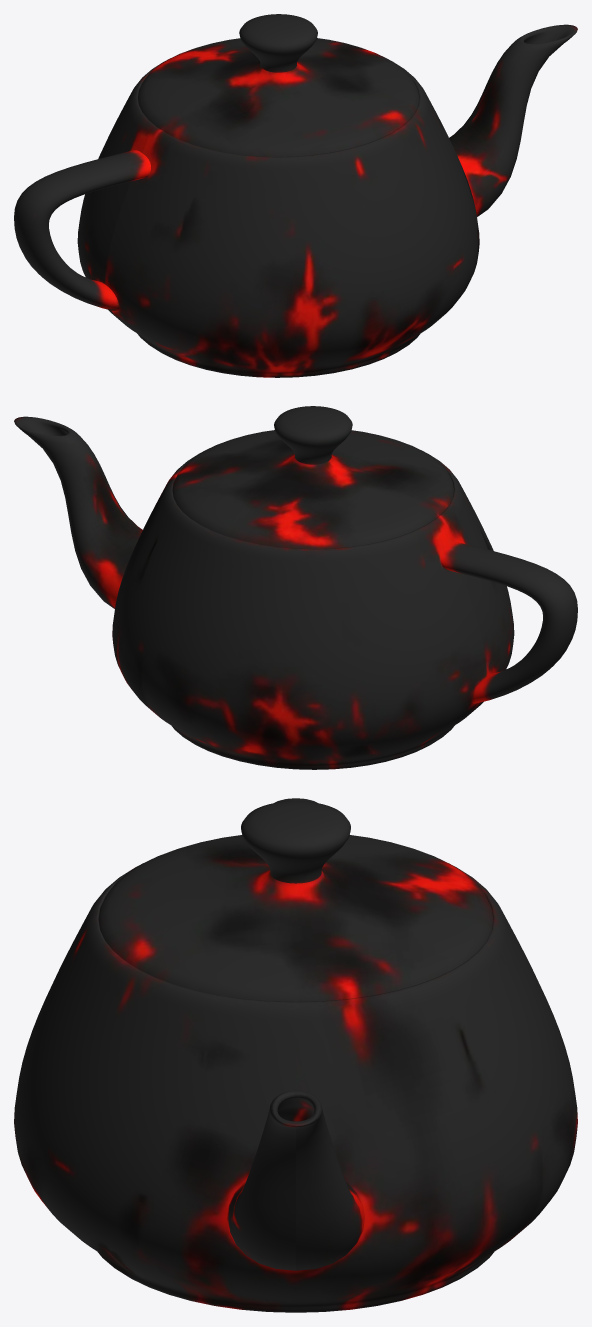
Rendered from frame_0005.glb.
The picture shows the model from 3 angles, top to bottom: view 1: azimuth 30°, elevation 25°; view 2: azimuth 150°, elevation 25°; view 3: azimuth 270°, elevation 25°; orthographic projection. The views are drawn at different scales.
Visible parts, largest first — view 1: world; view 2: world; view 3: world.
Part boxes in pixels (x1,y1,x2,y2): world: (14, 14, 577, 377); world: (14, 406, 577, 769); world: (14, 798, 577, 1312).
Bounding box in the file's own units: 1 × 0.5124 × 0.6217.
1 material, 1 textured.
